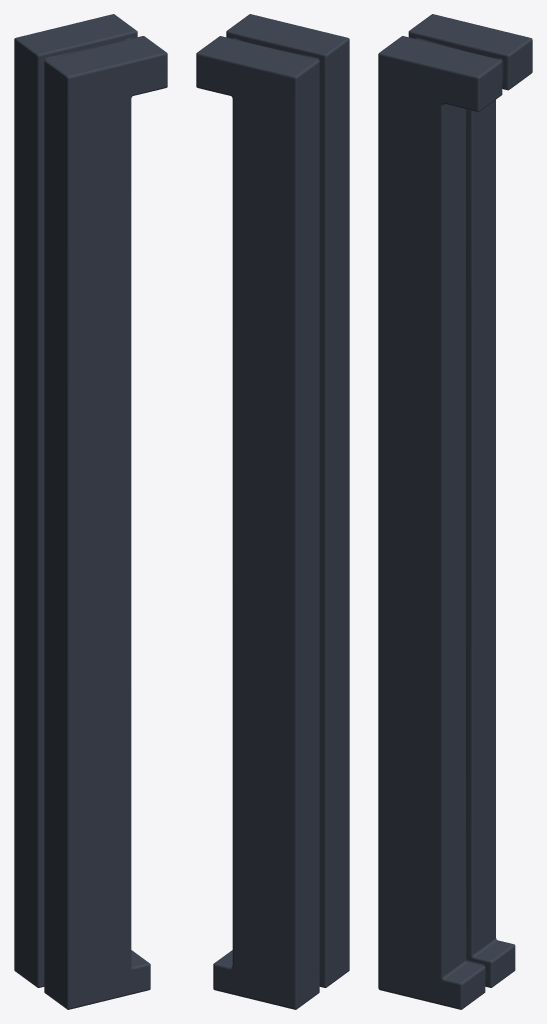
The model's file is Wall_Column.fbx.
The picture shows the model from 3 angles, left to right: view 1: azimuth 30°, elevation 25°; view 2: azimuth 150°, elevation 25°; view 3: azimuth 330°, elevation 25°; orthographic projection.
Parts seen in each view (by area): view 1: Plane.002; view 2: Plane.002; view 3: Plane.002.
Boxes of the visible parts, bbox=[...] form: Plane.002: bbox=[14, 14, 167, 1009]; Plane.002: bbox=[196, 14, 349, 1009]; Plane.002: bbox=[378, 14, 532, 1009].
Bounding box in the file's own units: 44.46 × 393 × 41.21.
